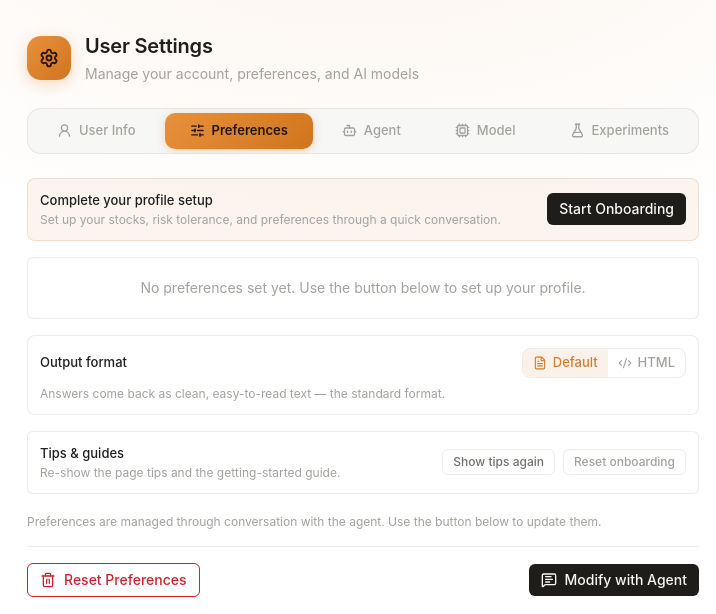
Test: Settings — chat hand-off guard › Start Onboarding shares the lane: locked too, and no second POST
Click the button "Start Onboarding". click: (617, 209)
box: top-left (547, 193), bottom-right (686, 225)
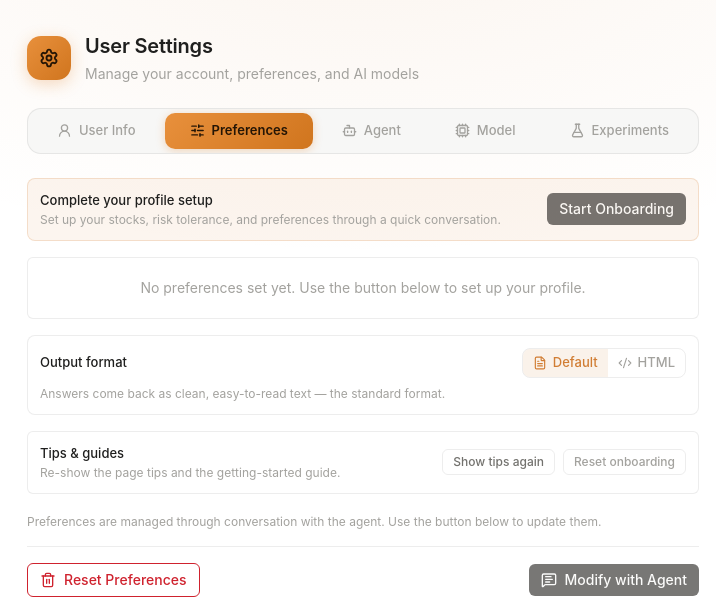
Expected: the button "Start Onboarding" is disabled, top-left (547, 193), bottom-right (686, 225)
Expected: the button "Modify with Agent" is disabled, top-left (528, 564), bottom-right (699, 596)
